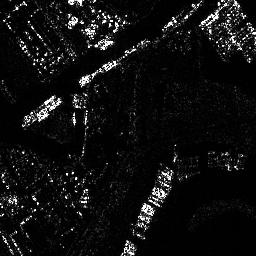ship: (20, 94, 58, 126)
